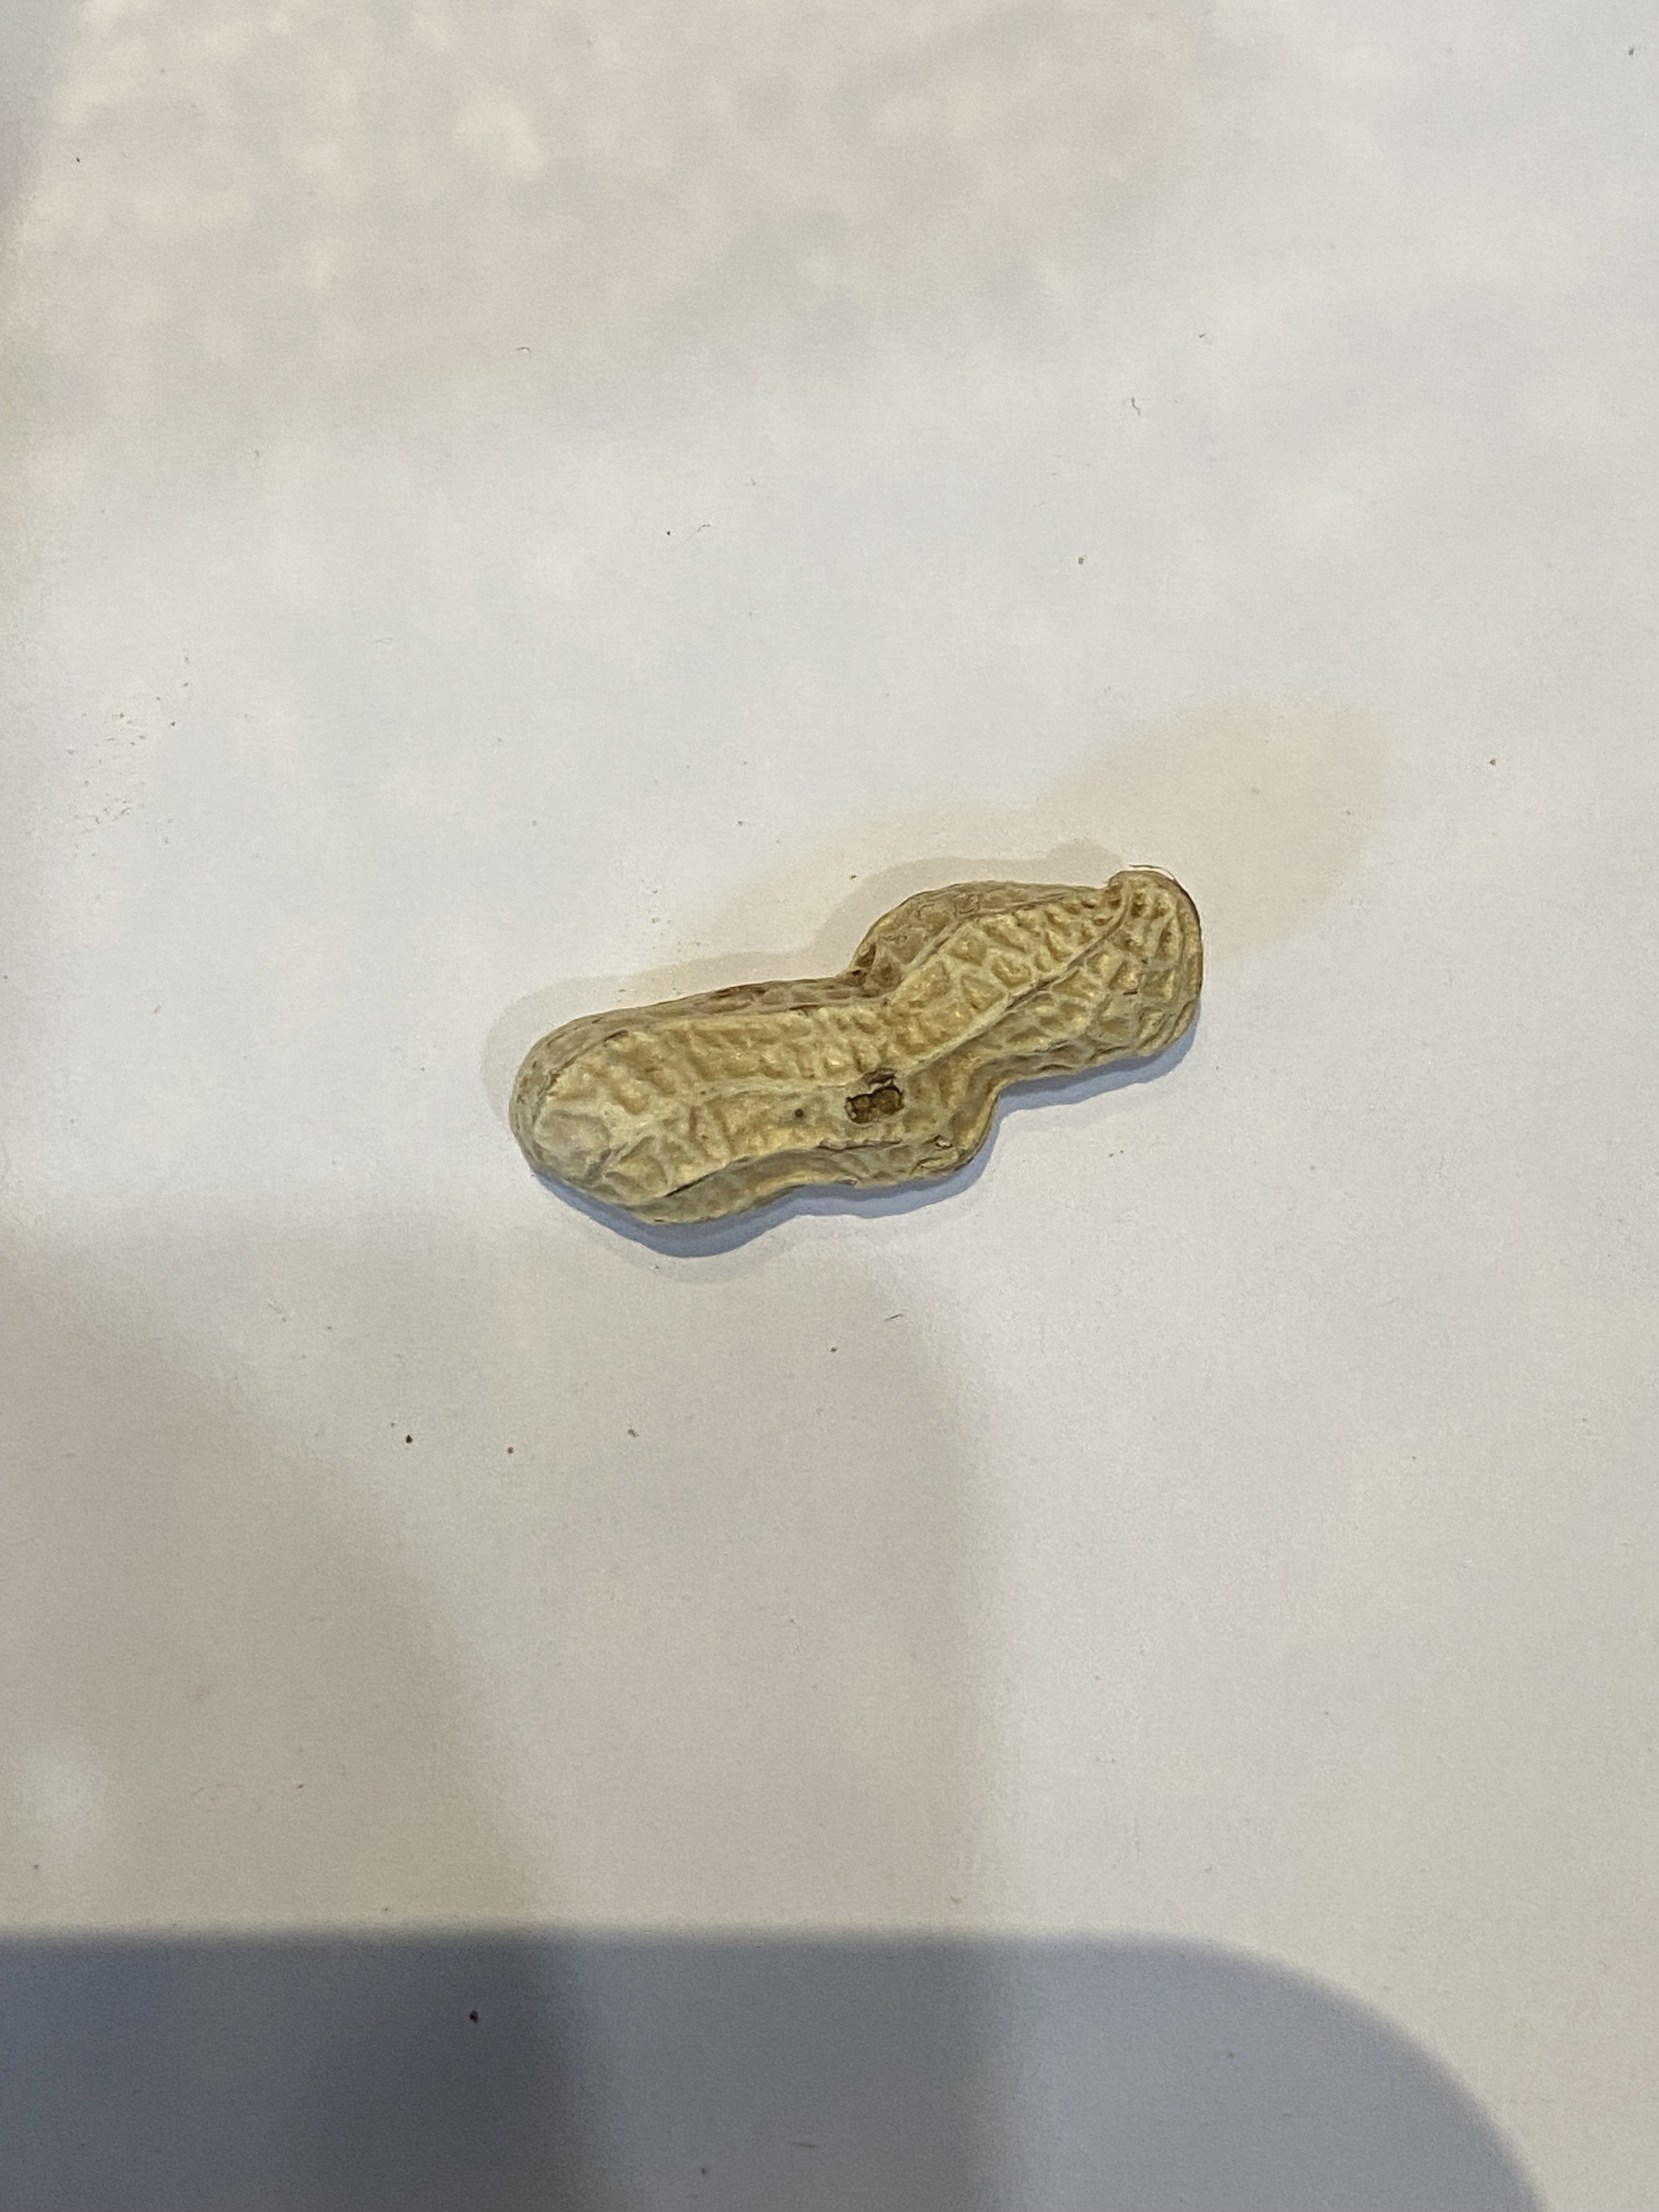kacang3: (505, 841, 1232, 1237)
